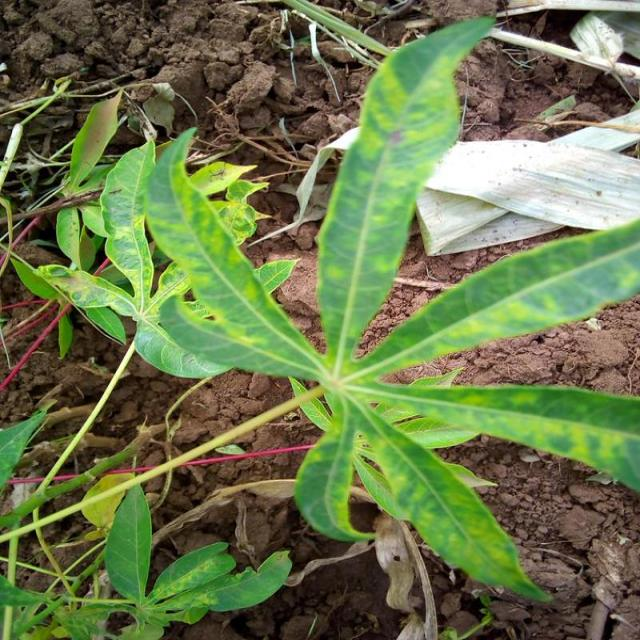cassava leaf: (9, 14, 638, 614), (314, 14, 496, 370)
